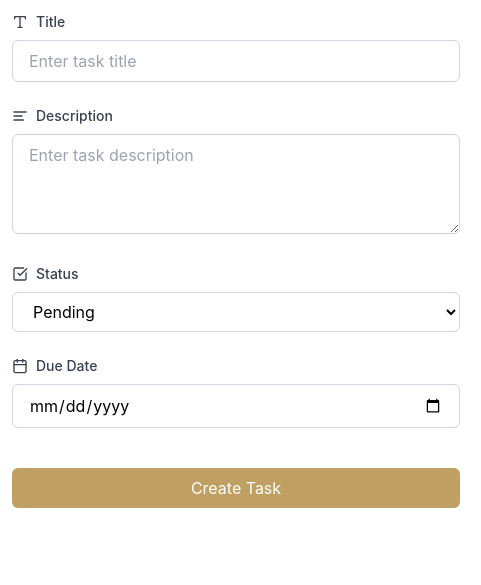
it: TaskForm › Form Validation › should show error message when title is empty
The image size is (481, 585).
What coordinates should you click on to do the following:
click the button "Create Task"
I would click on:
 (236, 488)
Its box is [12,468,460,508].
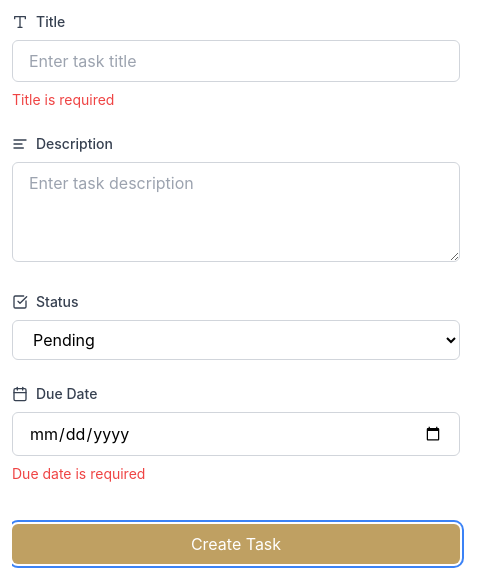
Expected: the text "Title is required" is shown, [12,91,114,108]
